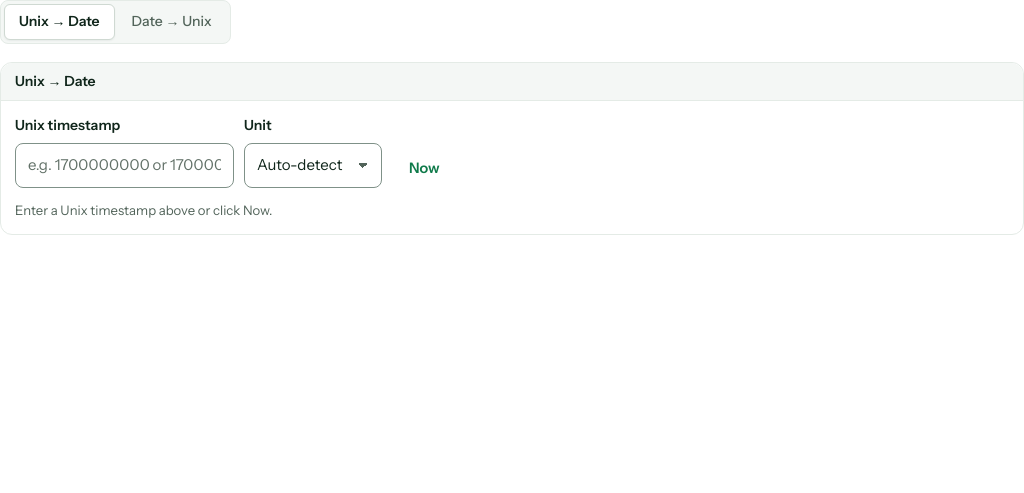
TimestampConverter — Unix → Date › Now button fills in current ms timestamp
Click the button "Now": [424, 168] box [392,149,457,188]
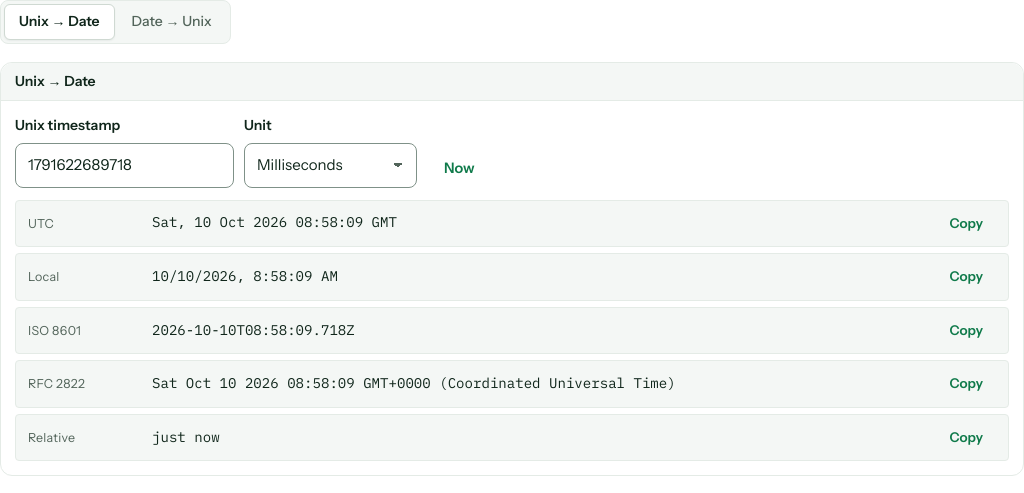
expect the field with placeholder "e.g. 1700000000 or 1700000000000" is not empty: met, box [15,143,234,188]
